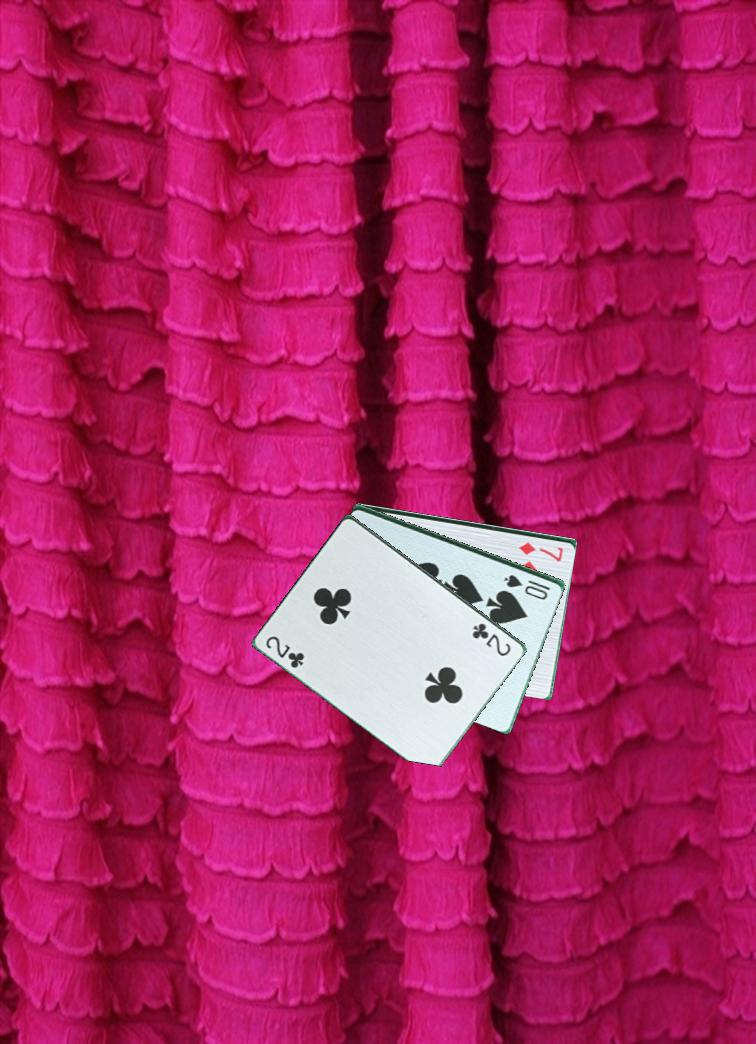2c: (469, 619, 514, 659), (262, 632, 308, 671)
7d: (514, 538, 566, 562)
ts: (501, 571, 553, 601)
